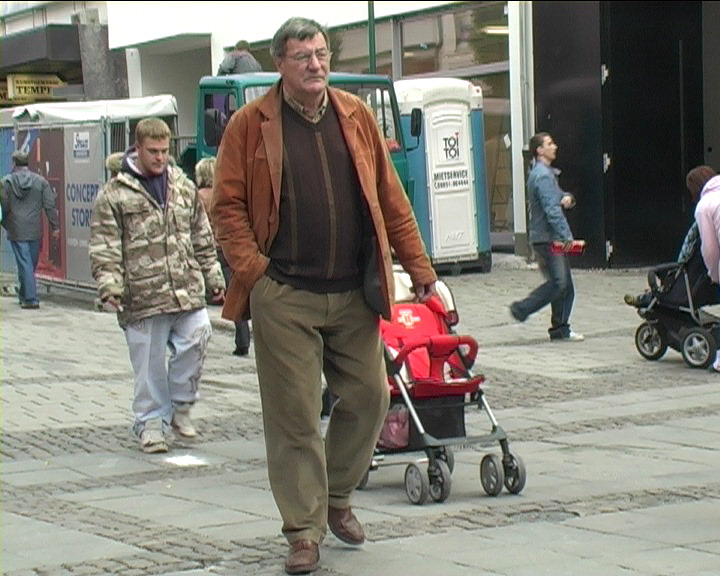undeflect: (223, 28, 395, 161)
